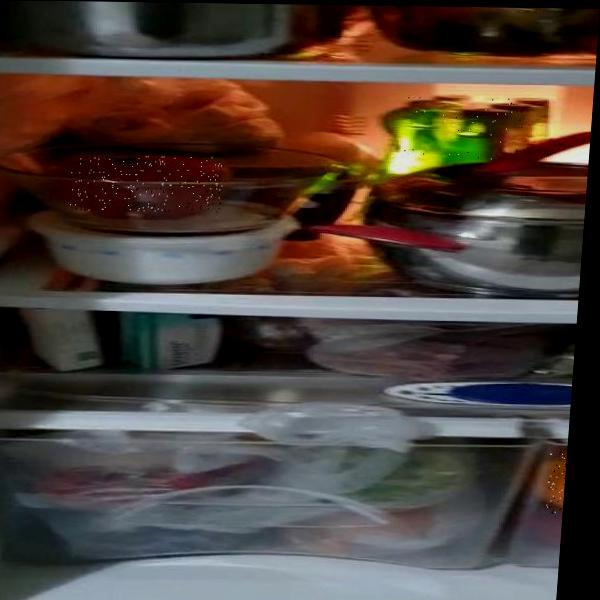mineral water: (393, 93, 531, 160)
orange: (545, 449, 567, 516)
tomato: (69, 155, 225, 212)
